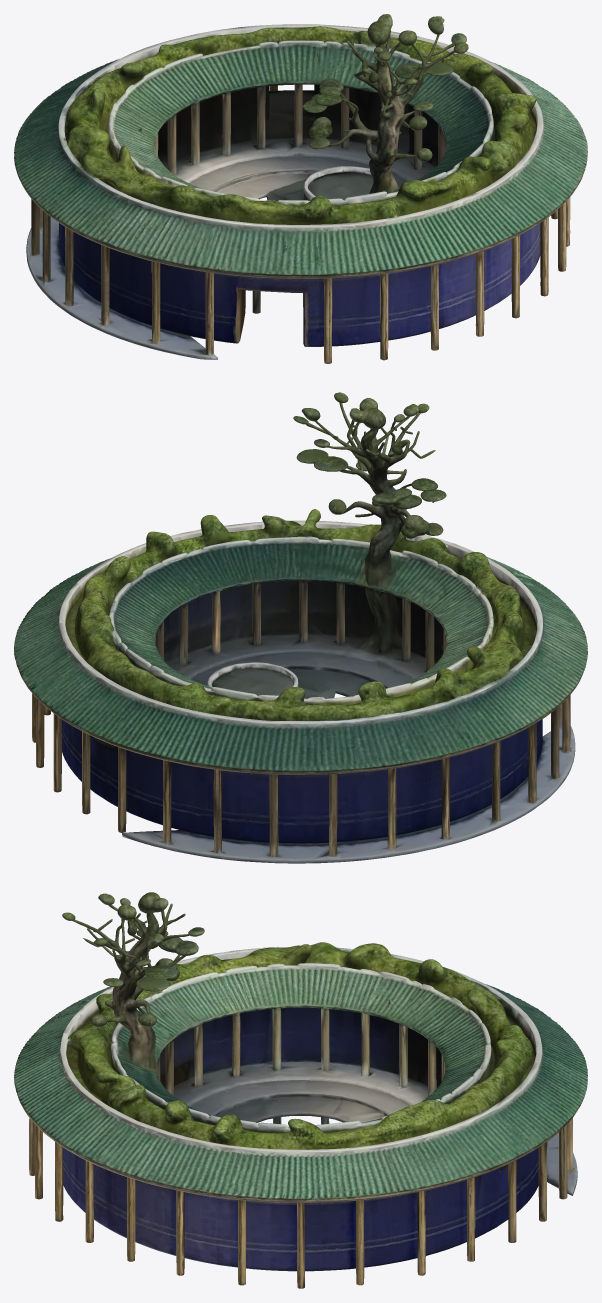
Rendered from institute.glb.
3 views of the same model, one above another, from view 1: azimuth 30°, elevation 25°; view 2: azimuth 150°, elevation 25°; view 3: azimuth 270°, elevation 25° (orthographic).
Visible parts, largest first — view 1: tripo_node_3a3b7e12-b04a-4462-b5d4-d5e71467d83f; view 2: tripo_node_3a3b7e12-b04a-4462-b5d4-d5e71467d83f; view 3: tripo_node_3a3b7e12-b04a-4462-b5d4-d5e71467d83f.
Boxes of the visible parts, box(x1,y1,x2,y2) form: tripo_node_3a3b7e12-b04a-4462-b5d4-d5e71467d83f: box(14, 14, 587, 363); tripo_node_3a3b7e12-b04a-4462-b5d4-d5e71467d83f: box(14, 392, 587, 863); tripo_node_3a3b7e12-b04a-4462-b5d4-d5e71467d83f: box(14, 892, 587, 1288).
Size of the model in its own units: 0.9802 by 0.534 by 0.977.
1 material, 1 textured.
